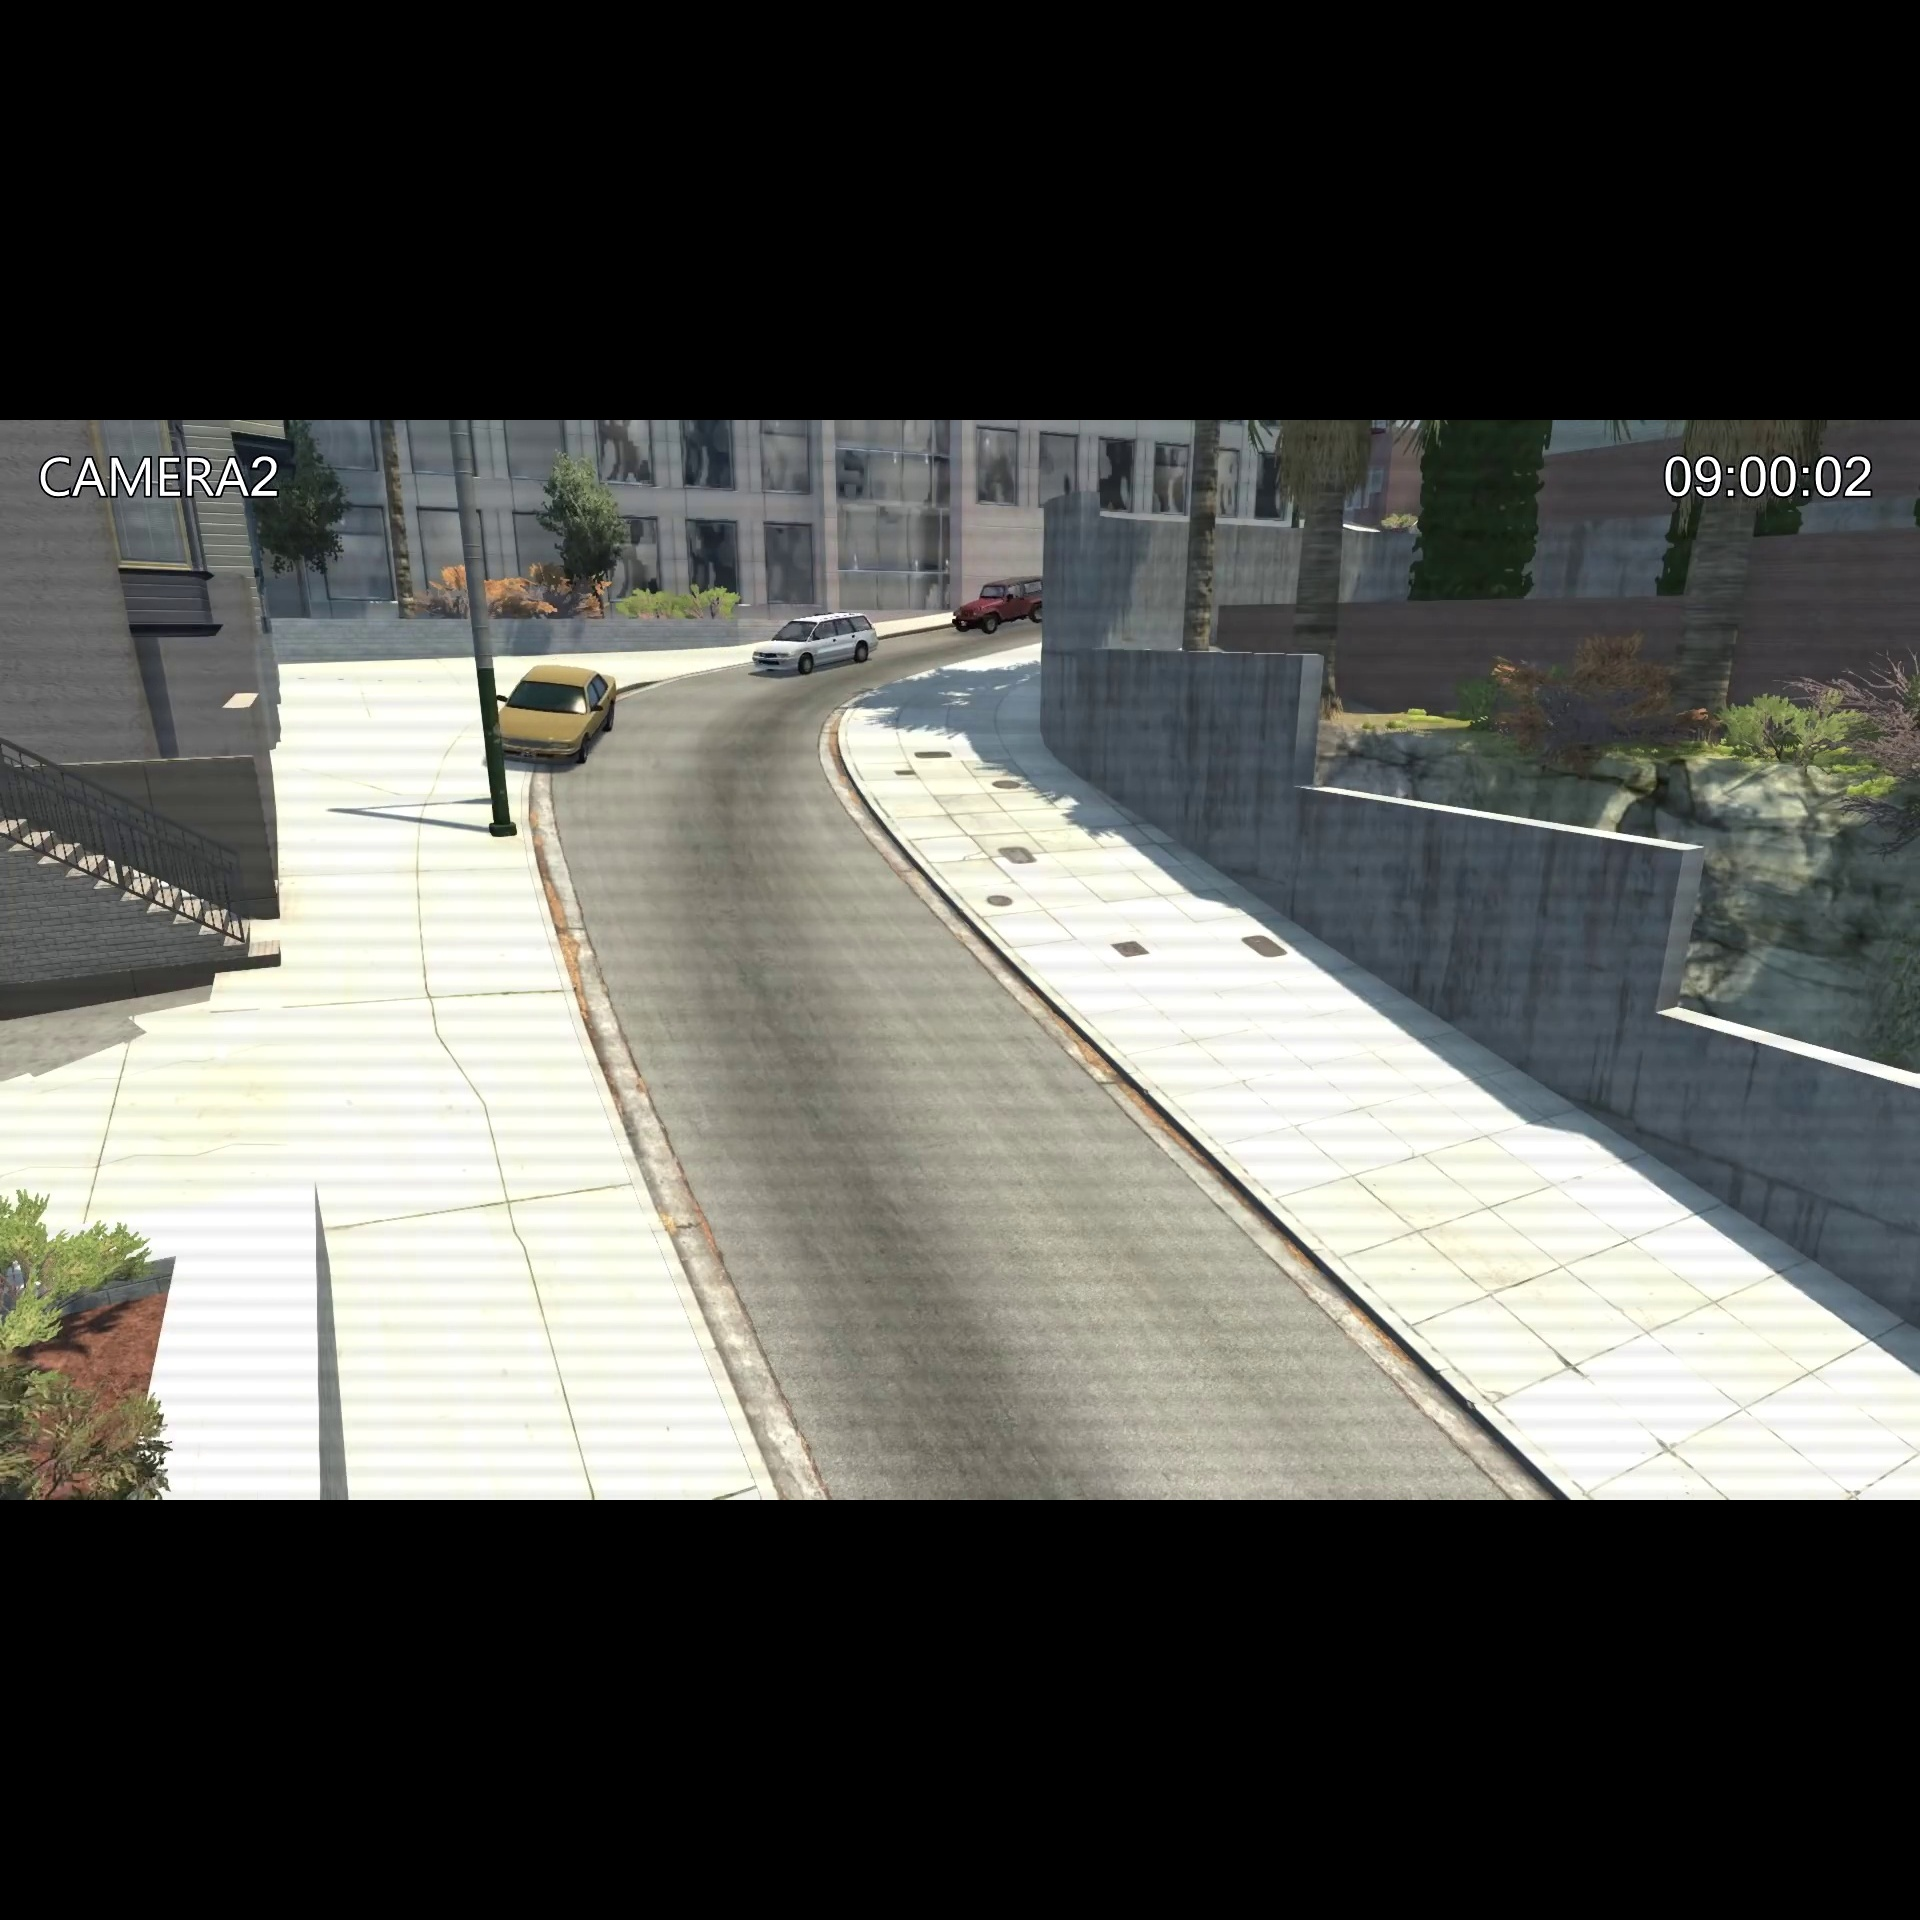vehicle: (494, 654, 622, 768), (745, 605, 884, 686), (944, 571, 1044, 642)
